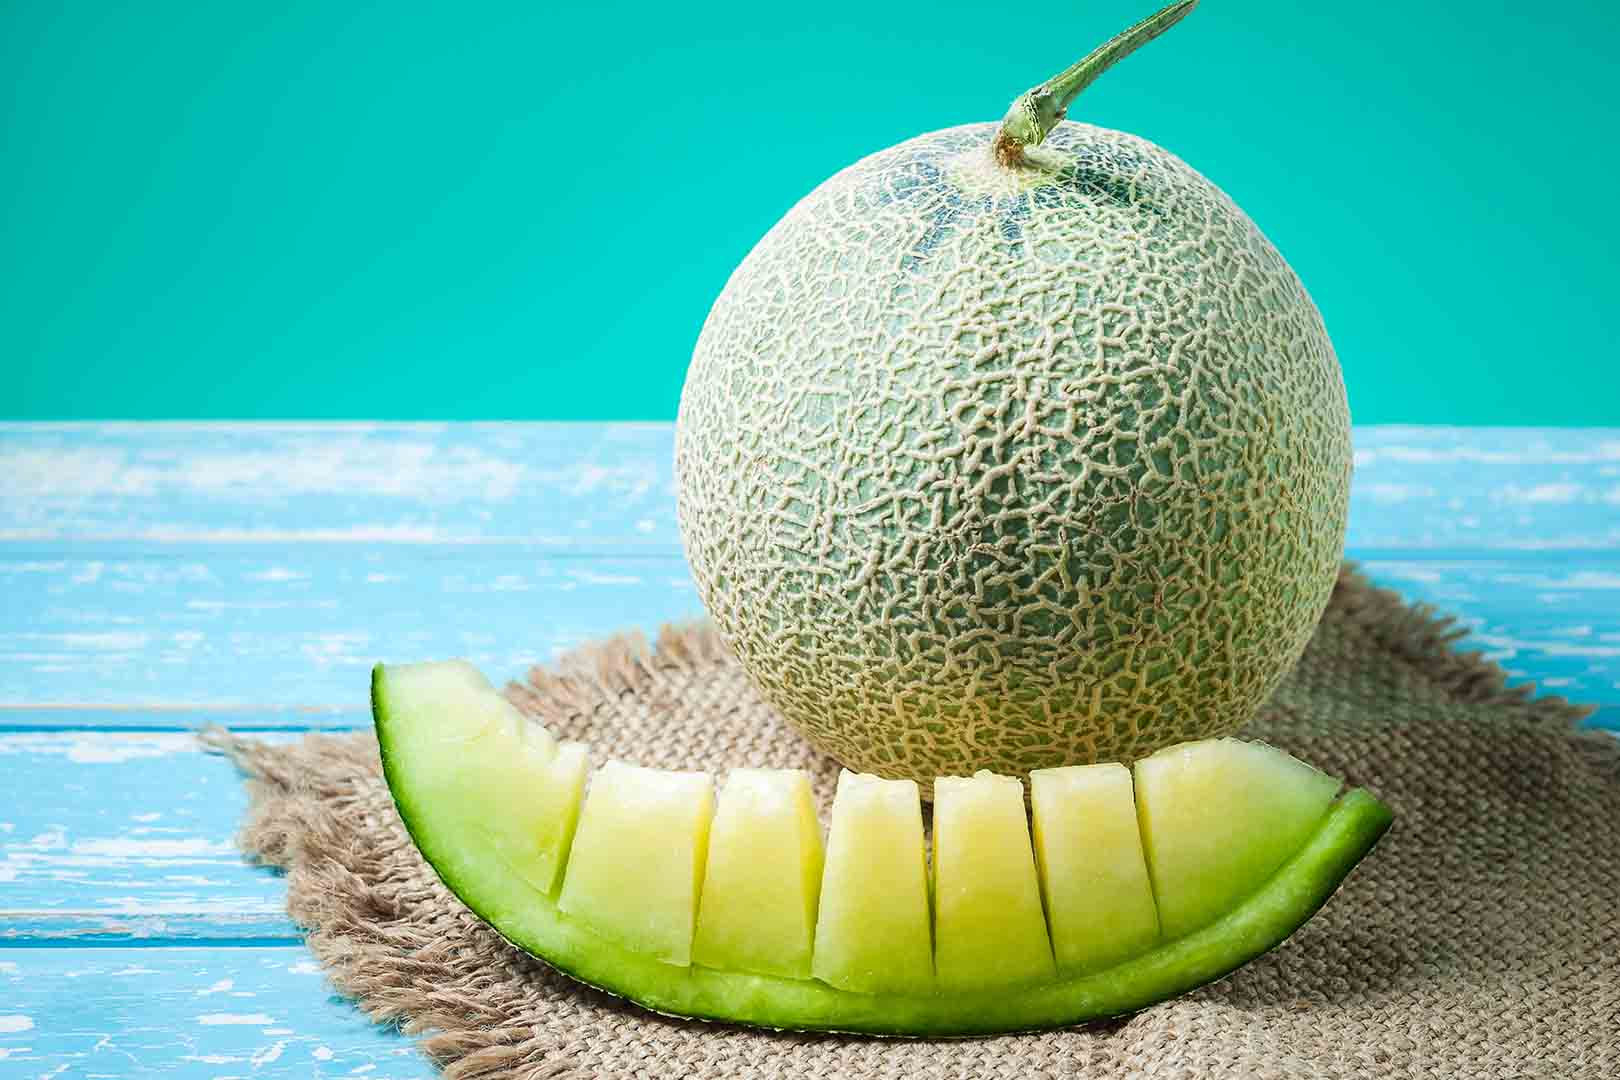Melon: (141, 714, 1375, 1037)
